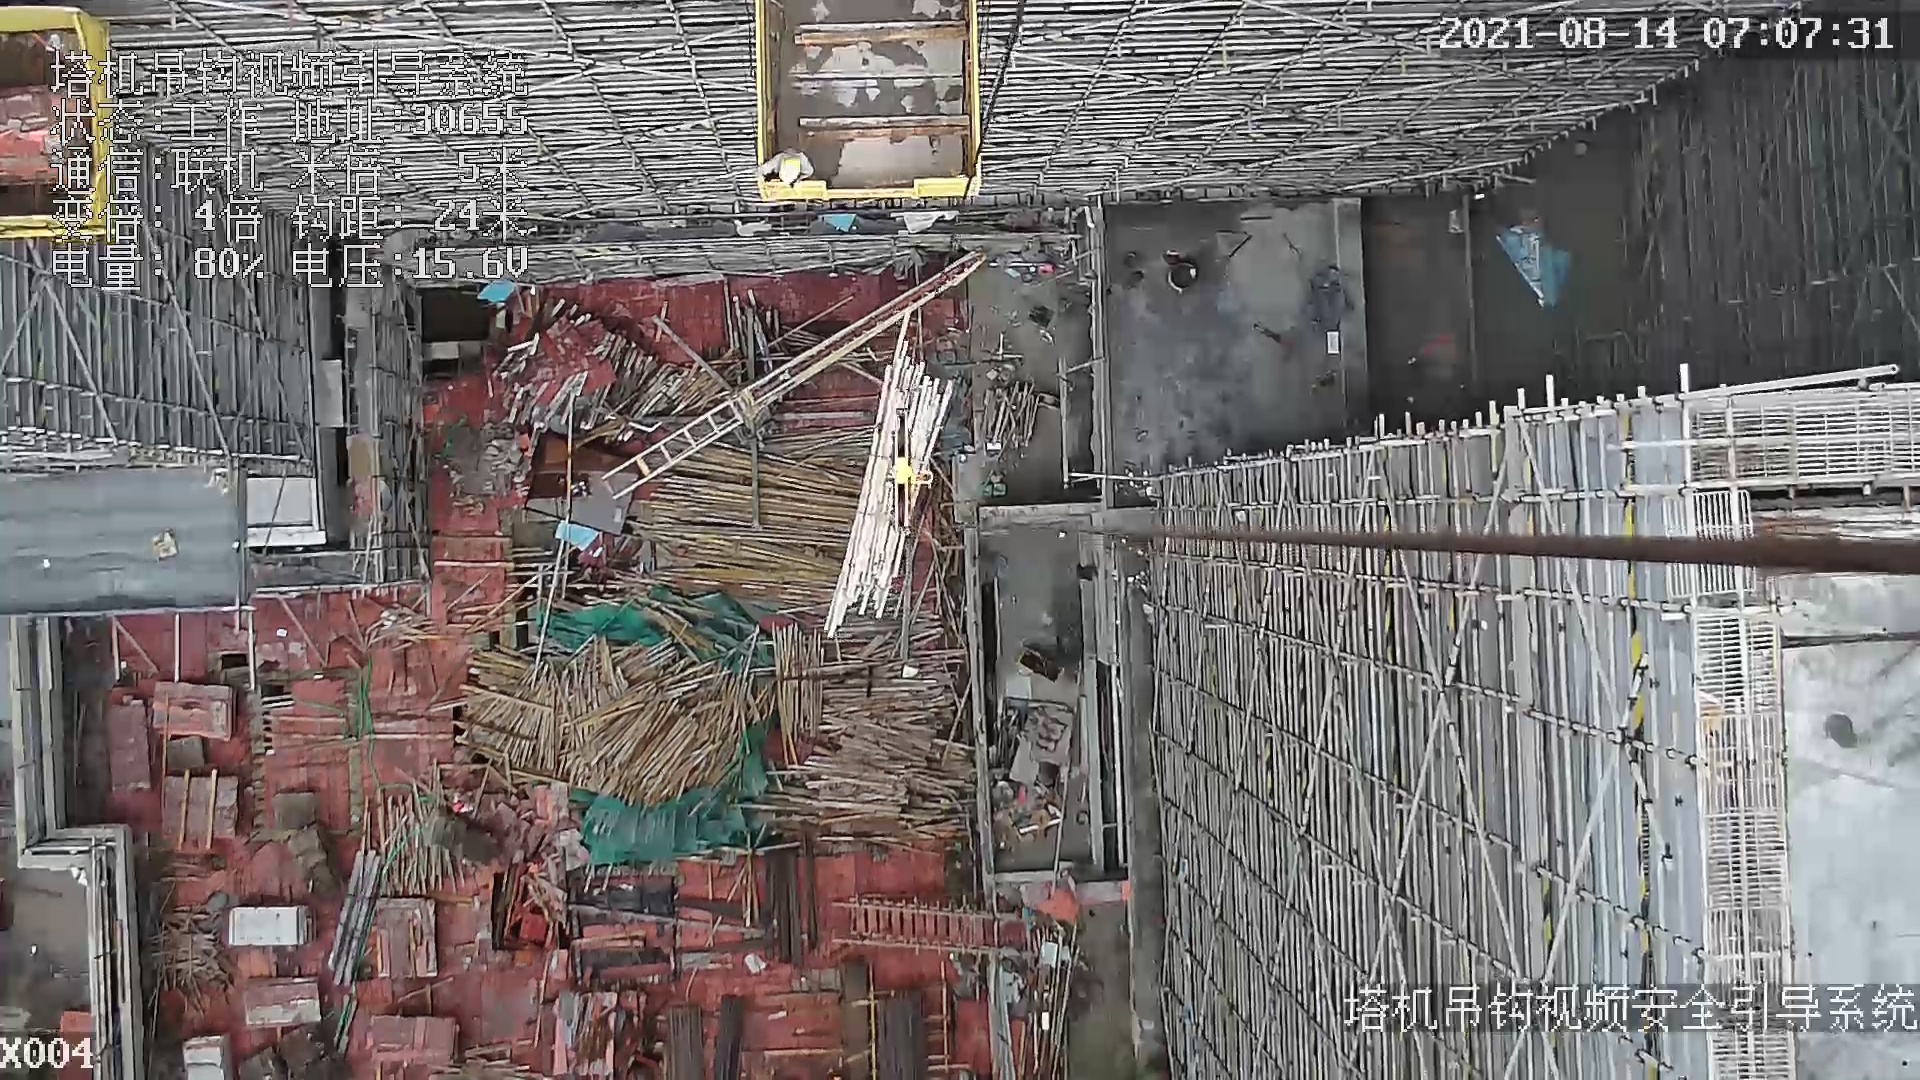helmet: (777, 155, 802, 183)
hook: (890, 421, 935, 545)
person: (746, 144, 810, 190)
